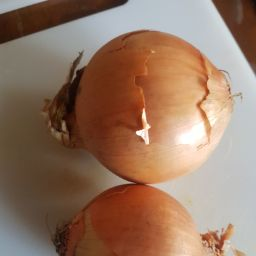Medium chopped onions: (34, 30, 256, 256), (56, 26, 246, 185), (44, 172, 242, 256)
